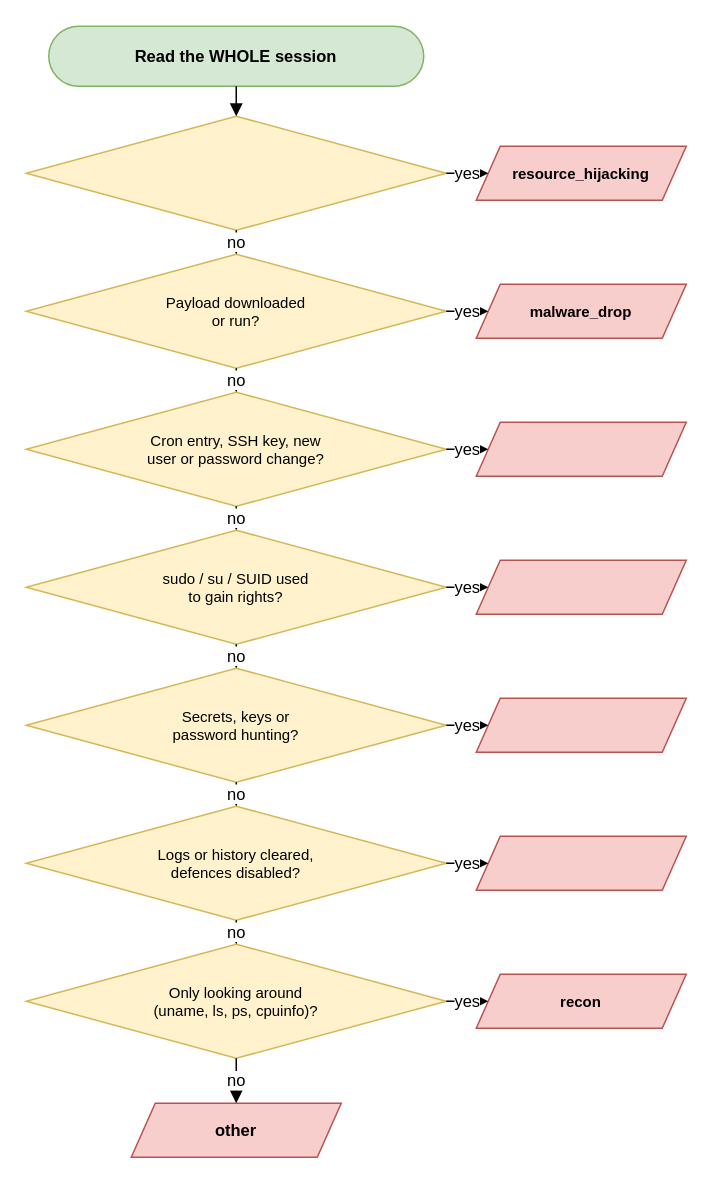
This 713x1184 diagram has some shape labels left out. The shapes that lost their labels are listed below. From the top down, each one's centre as x and y in pixels, then its label:
the point at 235,172: Miner, dota kit or mining pool seen?
the point at 580,448: persistence
the point at 580,586: privilege_escalation
the point at 580,724: credential_access
the point at 580,862: defense_evasion
